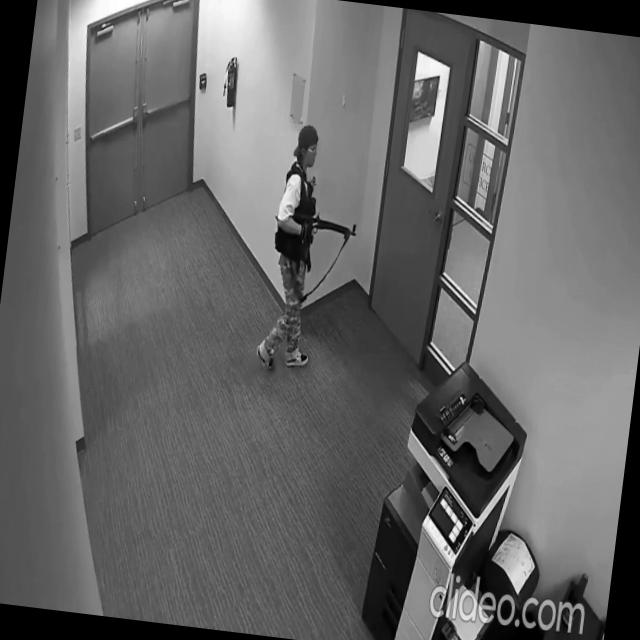gun: (295, 209, 360, 246)
person with a gun: (254, 119, 370, 377)
